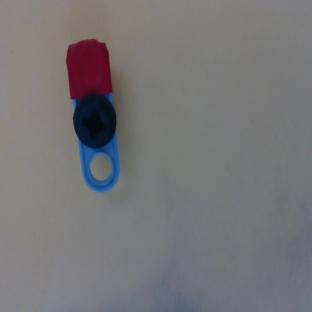part_1_good: (63, 37, 125, 193)
